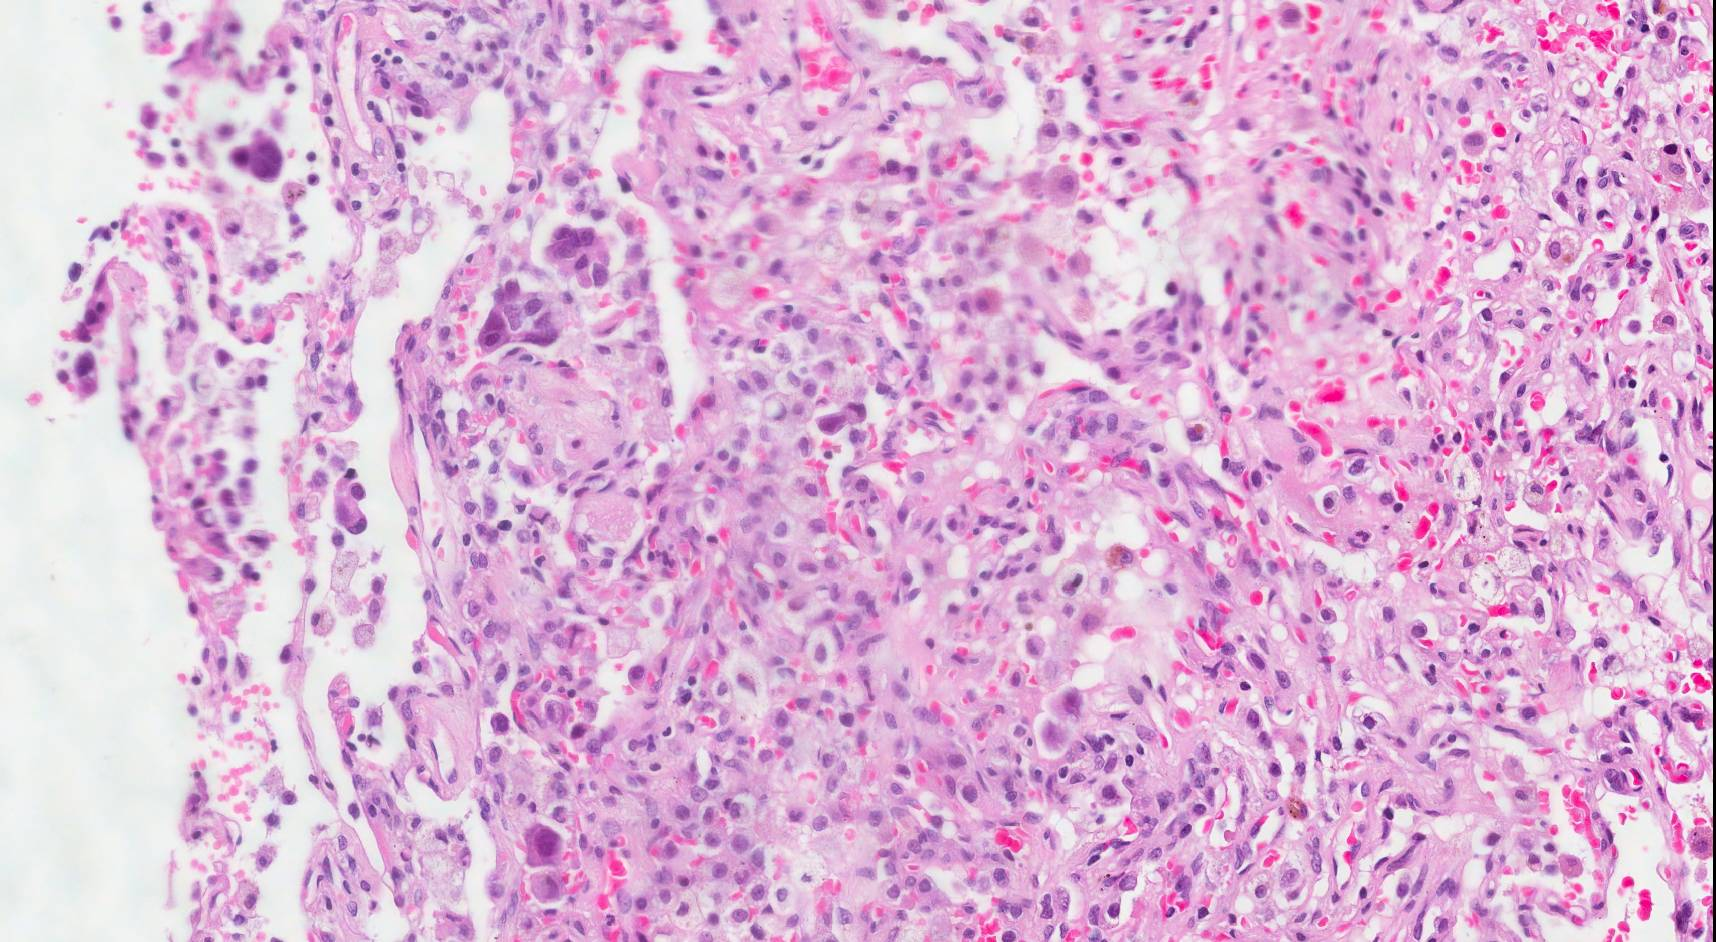stas: (477, 278, 558, 359), (538, 218, 616, 294), (225, 127, 295, 184), (331, 468, 375, 544)
